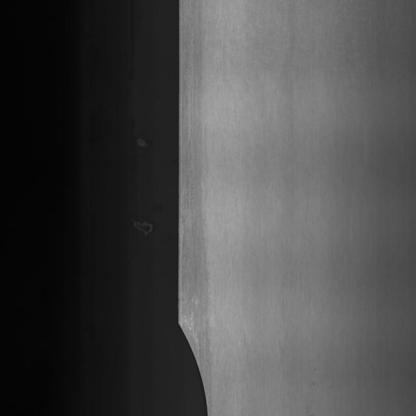crescent_gap: (175, 317, 220, 416)
